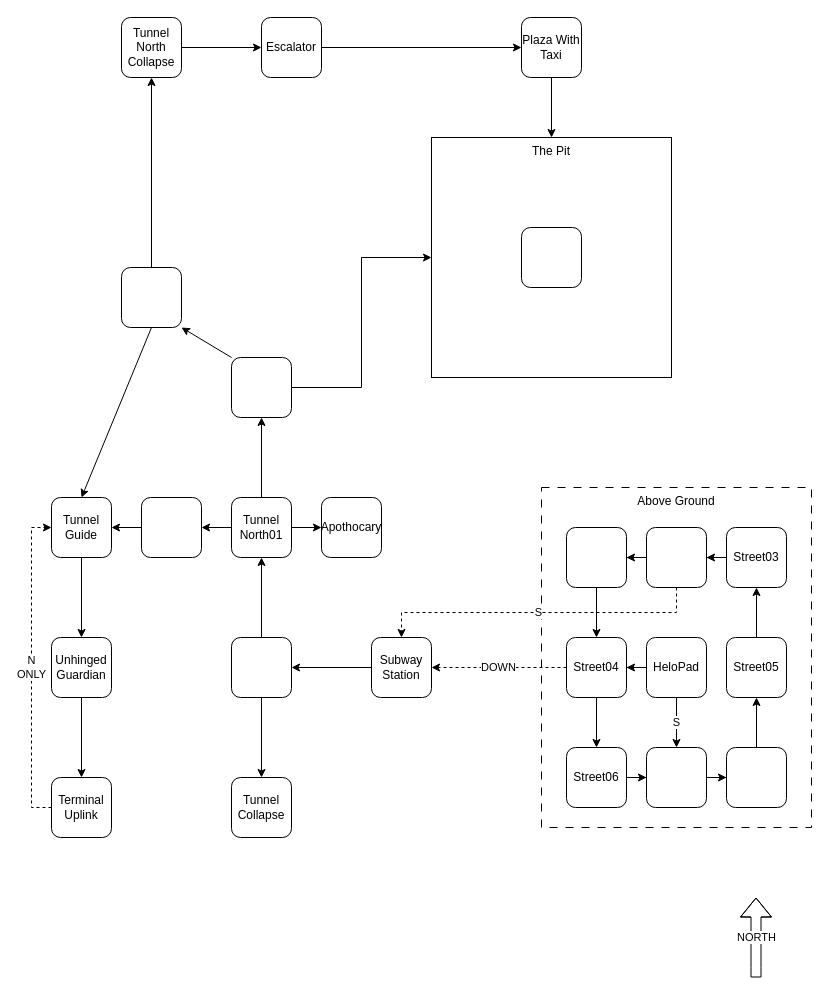
Some shapes in this 829 by 995 pixel diagram are drawn without their labels. The centre of each missing label's shape, as x and y in pixels:
"Display Hall" goes at (171,527).
"Elevator" goes at (551,257).
"Street01" goes at (596,557).
"Street02" goes at (676,557).
"Street07" goes at (676,777).
"Street08" goes at (756,777).
"Subway Platform" goes at (261,667).
"Tunnel North02" goes at (261,387).
"Tunnel North03" goes at (151,297).
